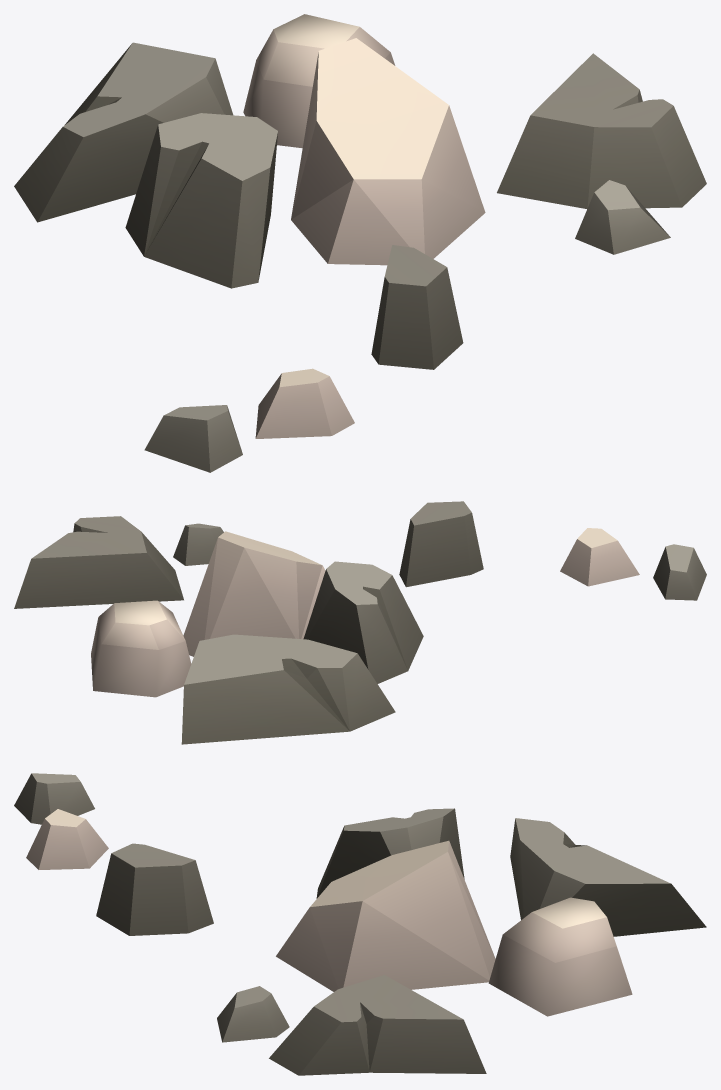
The model's file is Rock_Cluster_1B.fbx.
3 views of the same model, one above another, from view 1: azimuth 30°, elevation 25°; view 2: azimuth 150°, elevation 25°; view 3: azimuth 270°, elevation 25° (orthographic). The views are drawn at different scales.
Parts seen in each view (by area): view 1: Rock_Cluster_1B; view 2: Rock_Cluster_1B; view 3: Rock_Cluster_1B.
Part boxes in pixels (x1=…): Rock_Cluster_1B: x1=14, y1=14, x2=706, y2=472; Rock_Cluster_1B: x1=14, y1=501, x2=706, y2=744; Rock_Cluster_1B: x1=14, y1=773, x2=706, y2=1075.
Bounding box in the file's own units: 357 × 70.5 × 373.
